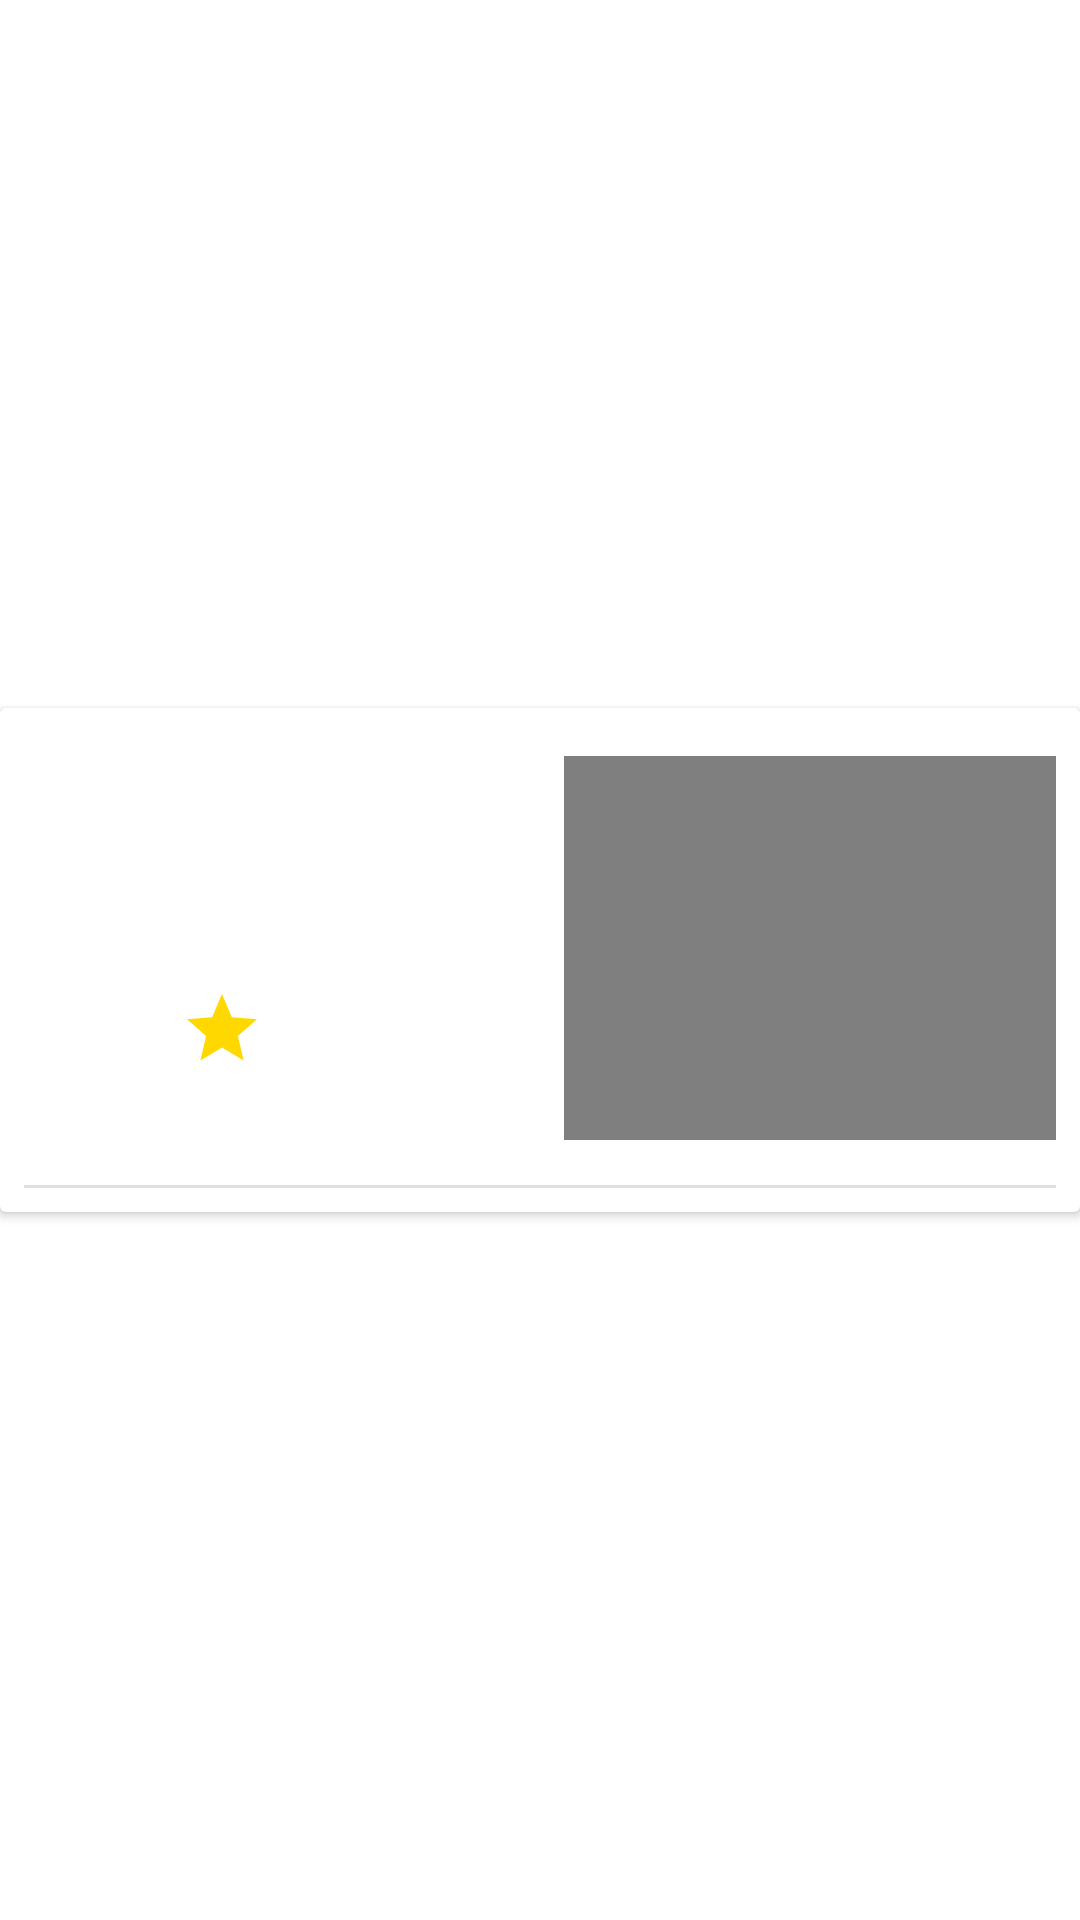

Screen size 1080px x 1920px. Icon name, then its center in pixels as [x,y]:
star: [222,1027]
